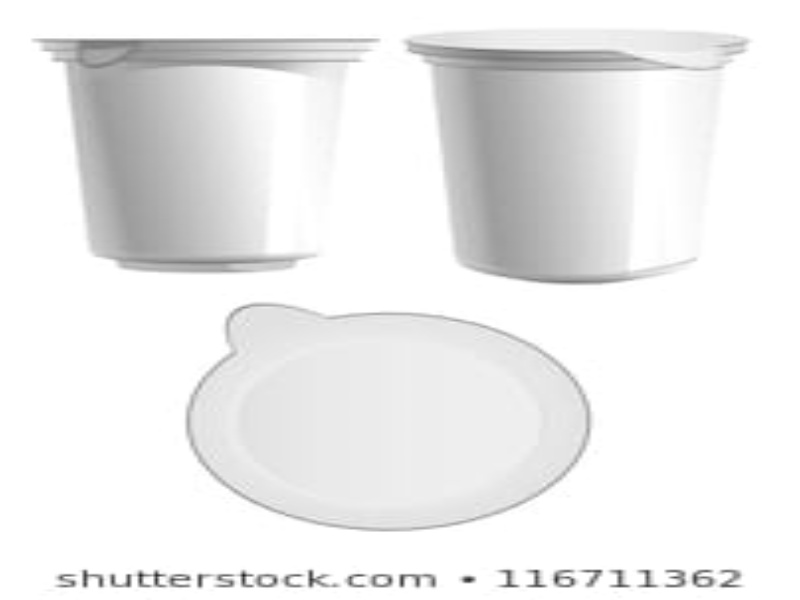yogurt-cup: (406, 26, 765, 288), (27, 32, 393, 281)
